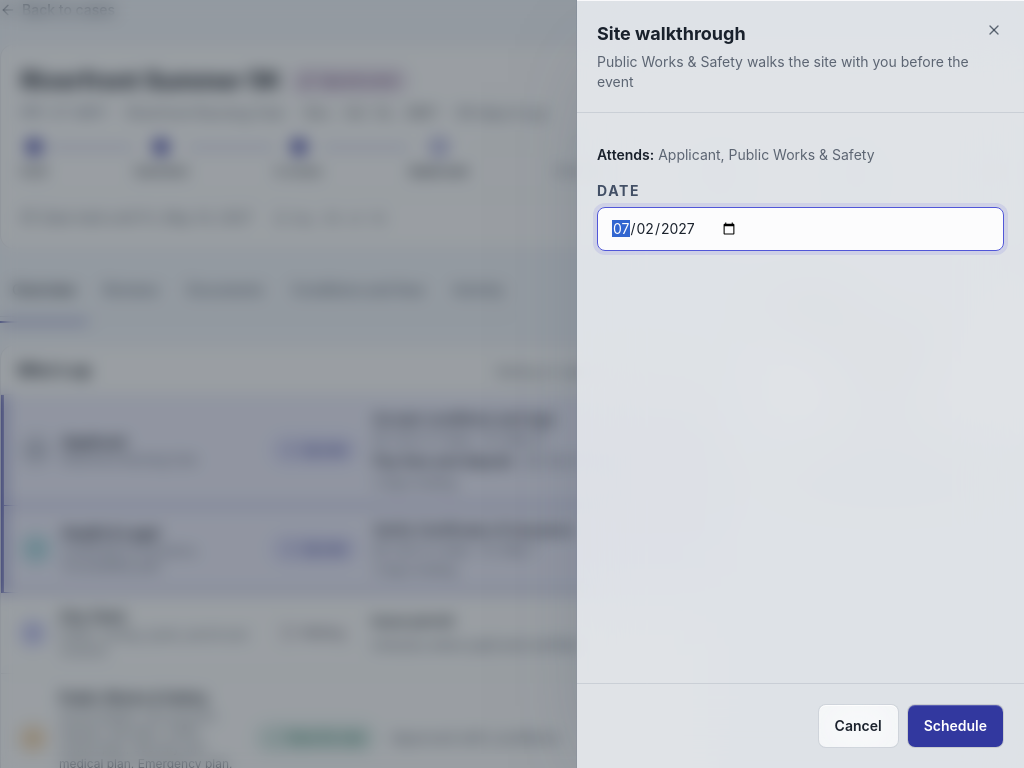
Test: ERROR: an action refused by the engine › a date typed into an open panel that the engine refuses: a walkthrough on Memorial Day
Expected: the button "Schedule" is enabled, [907,704,1004,748]
In the date field labelled "Date": [800, 229] box [597,207,1004,251], type "2027-05-31"
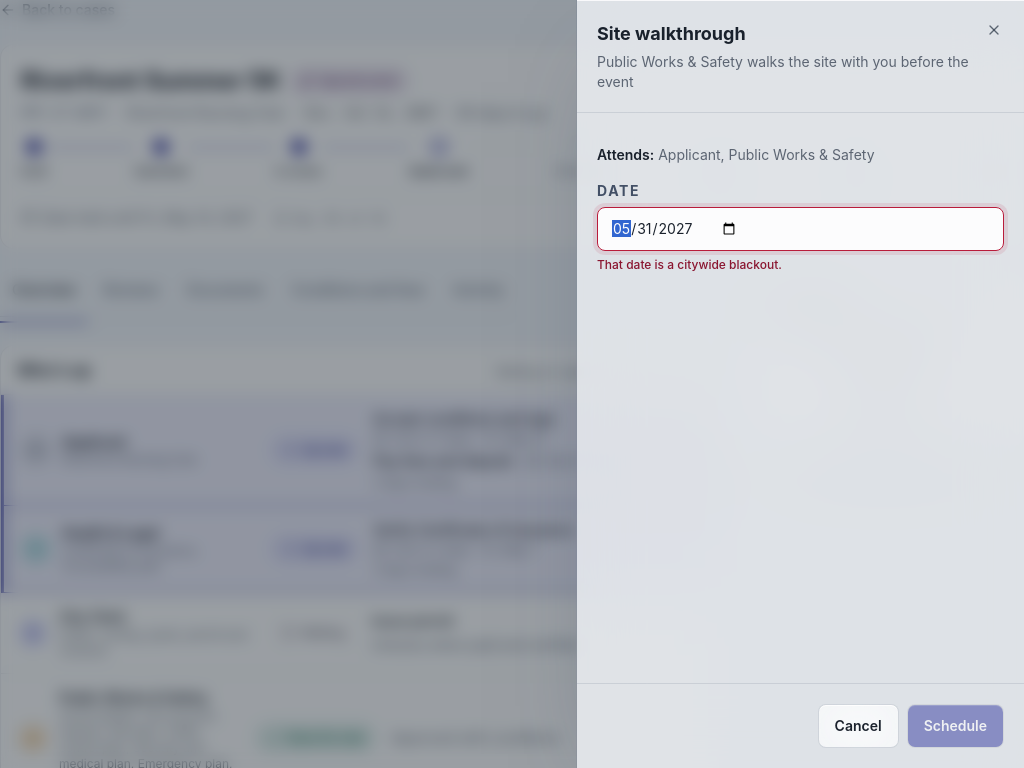
Now the text "That date is a citywide blackout." is shown, box [597,257,782,272]
Now the button "Schedule" is disabled, box [907,704,1004,748]
